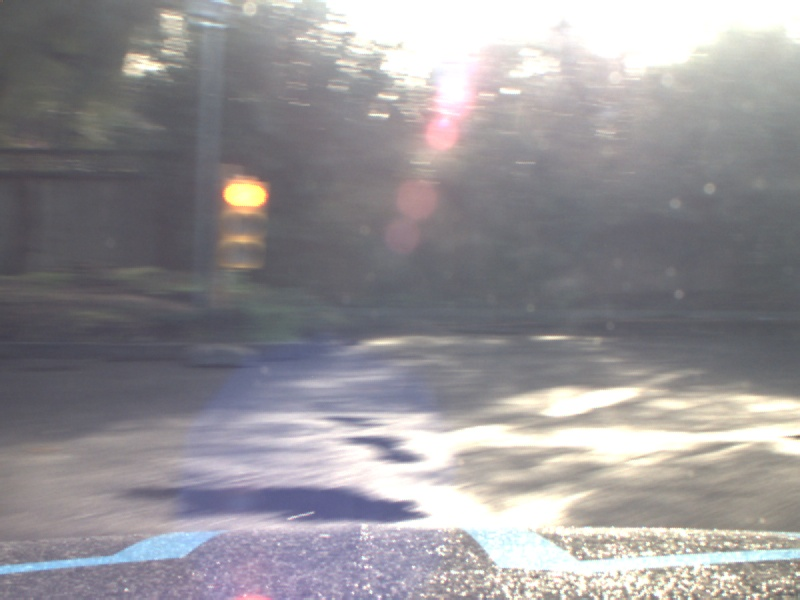Red: (221, 178, 265, 269)
